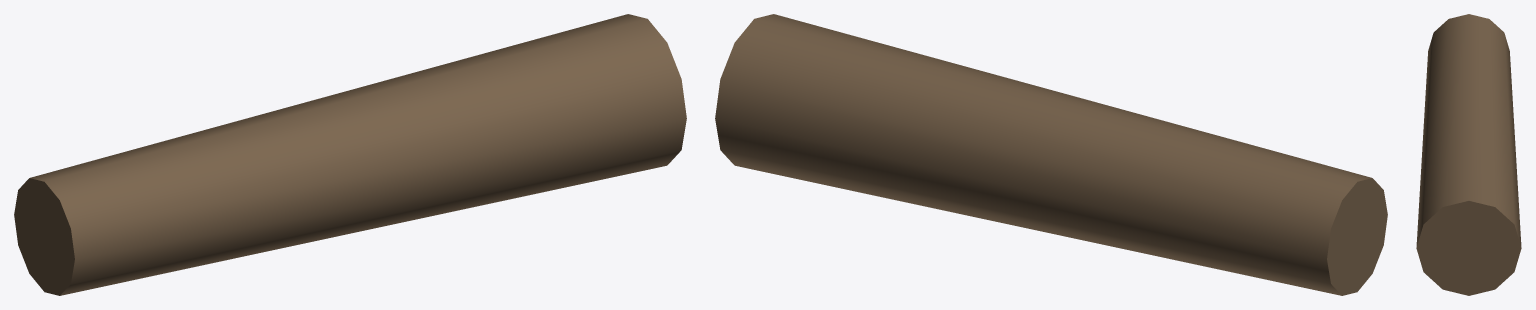
File: log.glb
3 views of the same model, side by side, from view 1: azimuth 30°, elevation 25°; view 2: azimuth 150°, elevation 25°; view 3: azimuth 270°, elevation 25° (orthographic). The views are drawn at different scales.
Parts seen in each view (by area): view 1: Бревно; view 2: Бревно; view 3: Бревно.
Boxes of the visible parts, left/top/right/bottom form: Бревно: left=14, top=14, right=686, bottom=295; Бревно: left=715, top=14, right=1387, bottom=295; Бревно: left=1416, top=14, right=1521, bottom=295.
Bounding box in the file's own units: 4 × 0.9 × 0.9.
